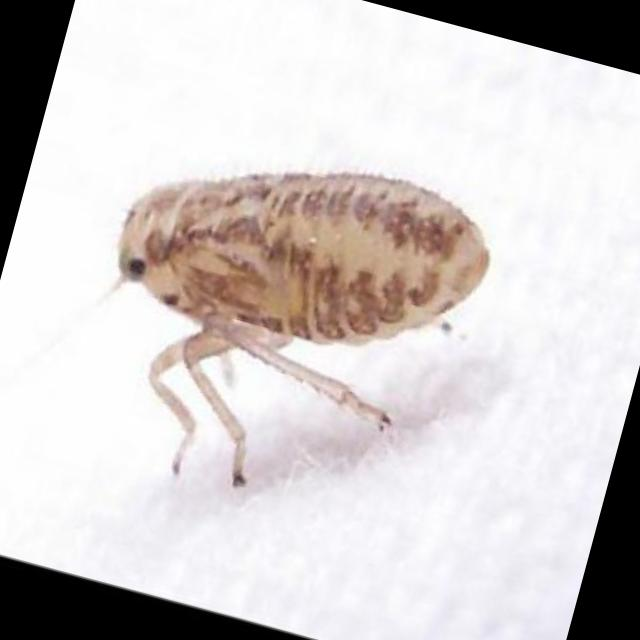brown-planthopper: (81, 96, 512, 455)
